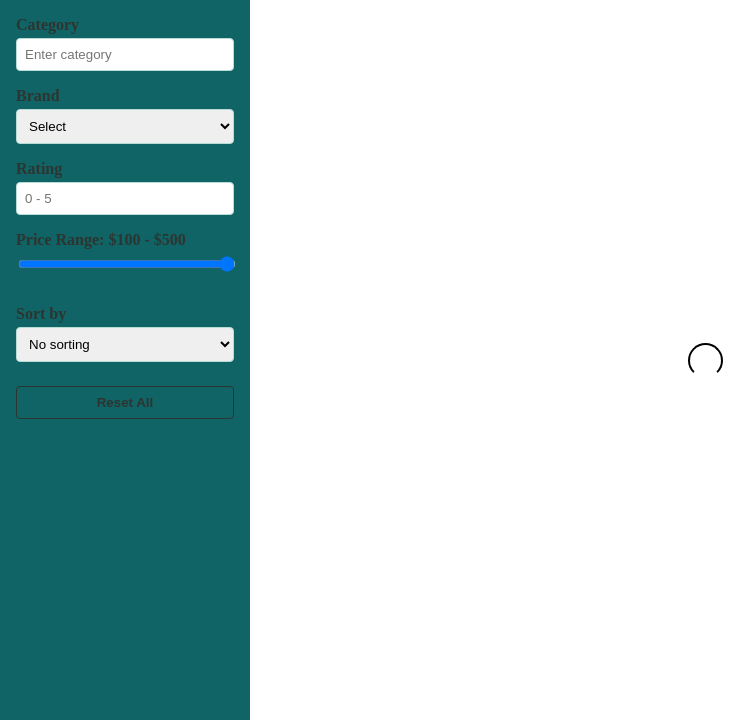
Test: ProductCatalog Filtering and Sorting Tests › filters by category
Type "Clothing" into the field with test id "filter-category" at (125, 54), box [16,38,234,71]
(page scrolled)
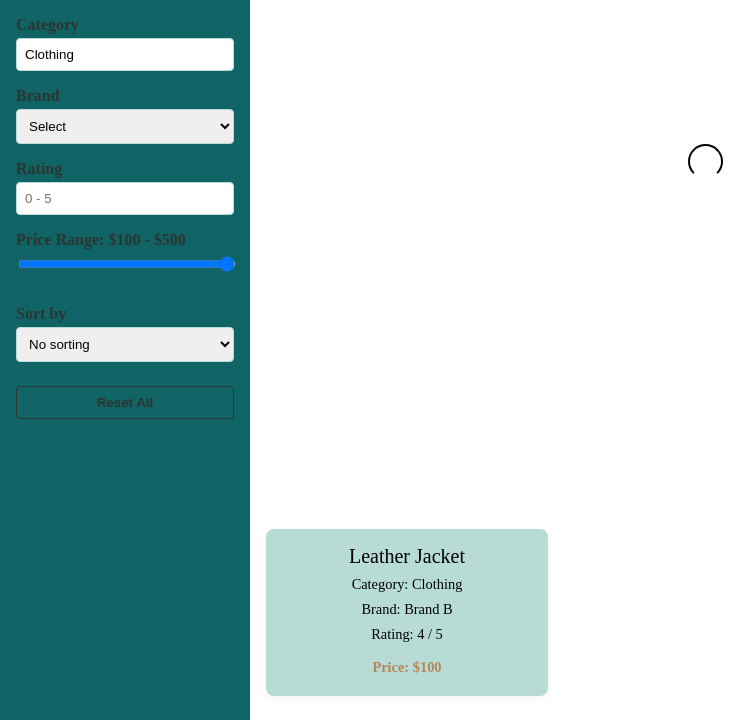
Now the heading "Leather Jacket" is shown, box [349,545,465,568]
